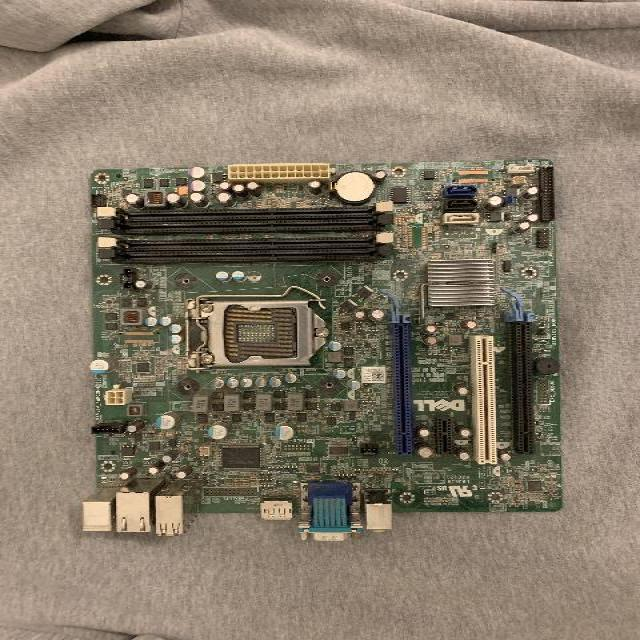Mainboard: (82, 160, 565, 541)
